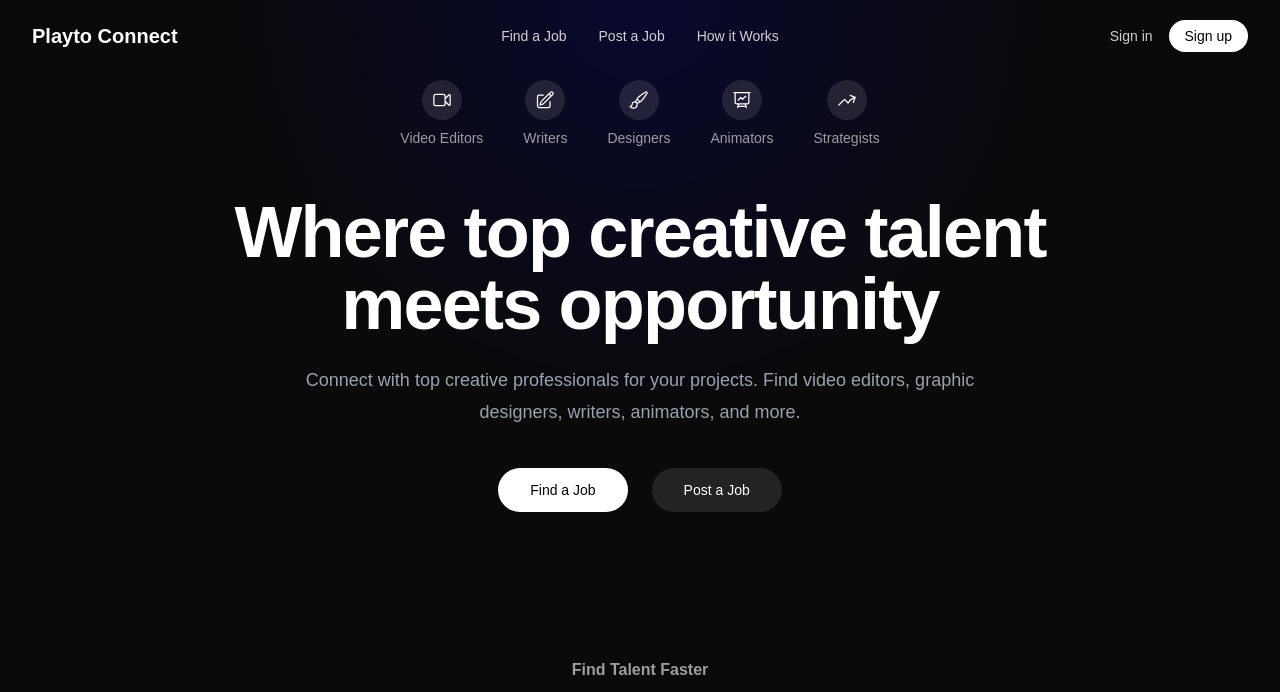
it: Authentication Flow › should navigate to sign in page
# Find and click sign in link
Click the link "Sign in" at (1132, 36), box 1110,26 -> 1153,46
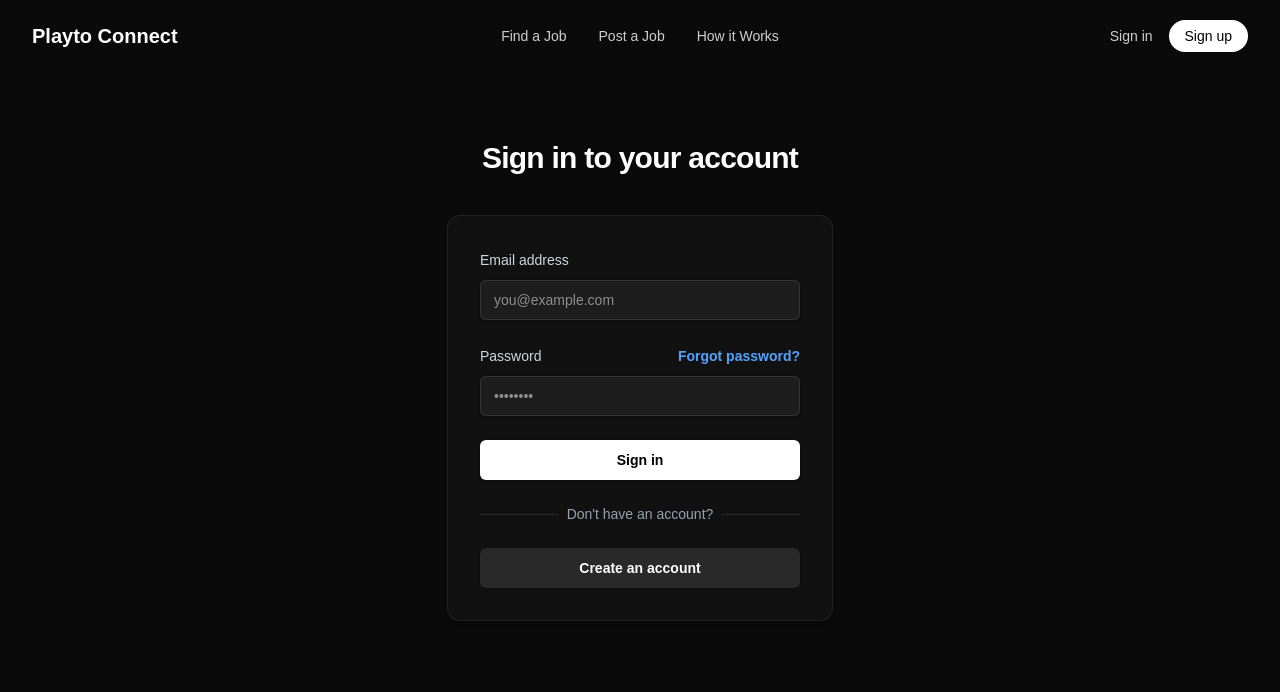
Check: the field named "email" is shown, box 480,280 -> 800,320
Check: the password field named "password" is shown, box 480,376 -> 800,416
